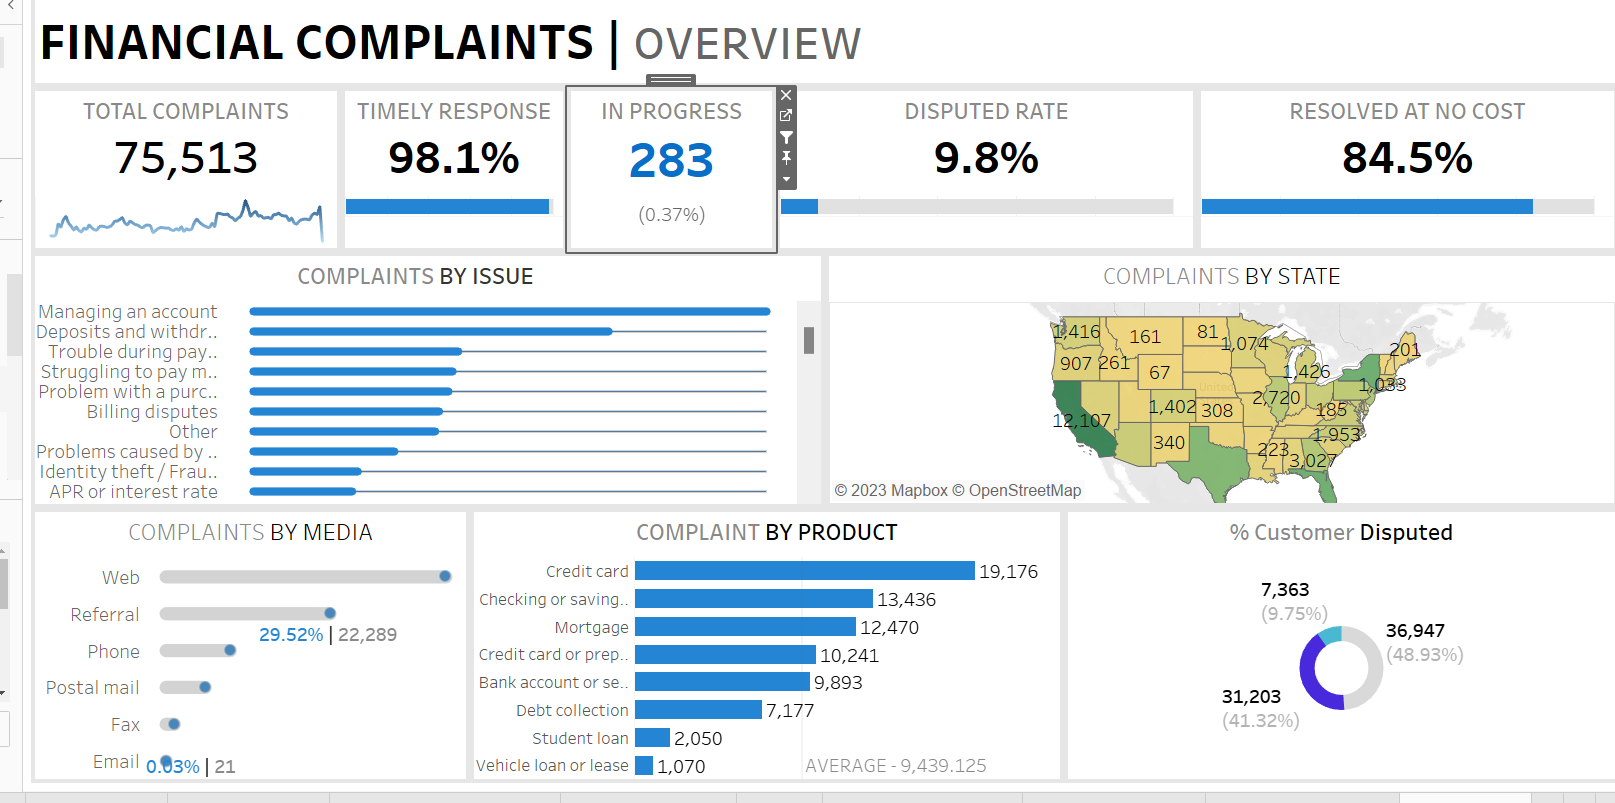

The dashboard page shown, as its layout file describes it:
{"tool":"tableau","page":{"name":"Dashboard","canvas":[1000,1000],"units":"permille","ordinal":0},"visuals":[{"type":"text","box":[5,9.9,990,116.5]},{"type":"worksheet","title":"TOTAL COMPLAINTS","mark":"Automatic","rows":["Financial Consumer Complaints.csv_F3DBA5D953DD4981A59912A849"],"cols":["Date Sumbited"],"box":[5,126.4,193.3,204.4]},{"type":"worksheet","title":"TIMELY RESPONSE","mark":"Bar","box":[198.3,126.4,140.9,204.4]},{"type":"worksheet","title":"IN PROGRESS","mark":"Automatic","box":[339.2,126.4,130.3,204.4]},{"type":"worksheet","title":"DISPUTED RATE","mark":"Automatic","box":[469.5,126.4,262.8,204.4]},{"type":"worksheet","title":"RESOLVED AT NO COST","mark":"Bar","box":[732.2,126.4,262.8,204.4]},{"type":"worksheet","title":"Complaint by Issue","mark":"Line","rows":["Issue"],"cols":["Calculation_1293096087283699725"],"box":[5,330.9,495,317.5]},{"type":"worksheet","title":"Complaints by State","mark":"Automatic","box":[500,330.9,495,317.5]},{"type":"worksheet","title":"Complaints by Media","mark":"Automatic","rows":["Submitted via"],"cols":["Financial Consumer Complaints.csv_F3DBA5D953DD4981A59912A849"],"box":[5,648.4,273.5,341.7]},{"type":"worksheet","title":"Comp. By Product","mark":"Automatic","rows":["Product"],"cols":["Financial Consumer Complaints.csv_F3DBA5D953DD4981A59912A849"],"box":[278.5,648.4,370.4,341.7]},{"type":"worksheet","title":"Dispute","mark":"Pie","rows":["Calculation_1293096087254110216","Calculation_1293096087254134794"],"box":[648.9,648.4,346.1,341.7]}]}

Visuals, with their boxes on the dashboard's canvas, which has no fixed pixel size, in thousandths of its width and height (x1, y1, x2, y2). These are canvas units, not pixel positions in the 1615x803 screenshot, which may show the page scaled, cropped or inside an application window:
text: (5, 10, 995, 126)
"TOTAL COMPLAINTS" worksheet: (5, 126, 198, 331)
"TIMELY RESPONSE" worksheet (Bar marks): (198, 126, 339, 331)
"IN PROGRESS" worksheet: (339, 126, 470, 331)
"DISPUTED RATE" worksheet: (470, 126, 732, 331)
"RESOLVED AT NO COST" worksheet (Bar marks): (732, 126, 995, 331)
"Complaint by Issue" worksheet (Line marks): (5, 331, 500, 648)
"Complaints by State" worksheet: (500, 331, 995, 648)
"Complaints by Media" worksheet: (5, 648, 278, 990)
"Comp. By Product" worksheet: (278, 648, 649, 990)
"Dispute" worksheet (Pie marks): (649, 648, 995, 990)
